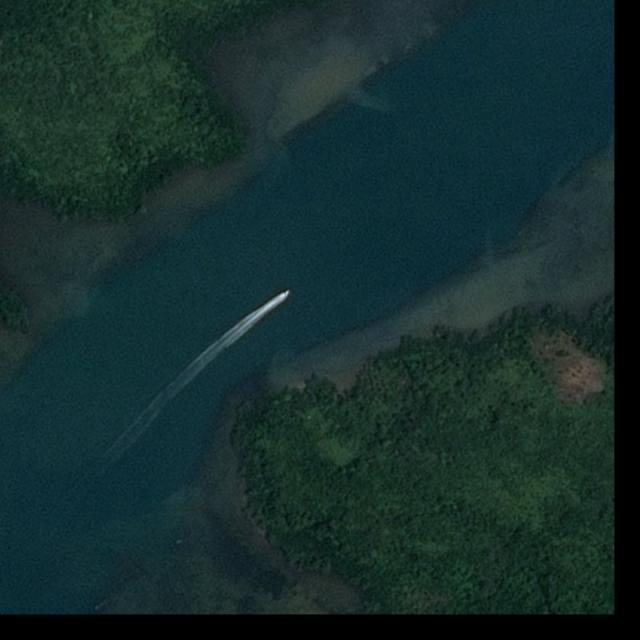ship: (283, 288, 293, 298)
